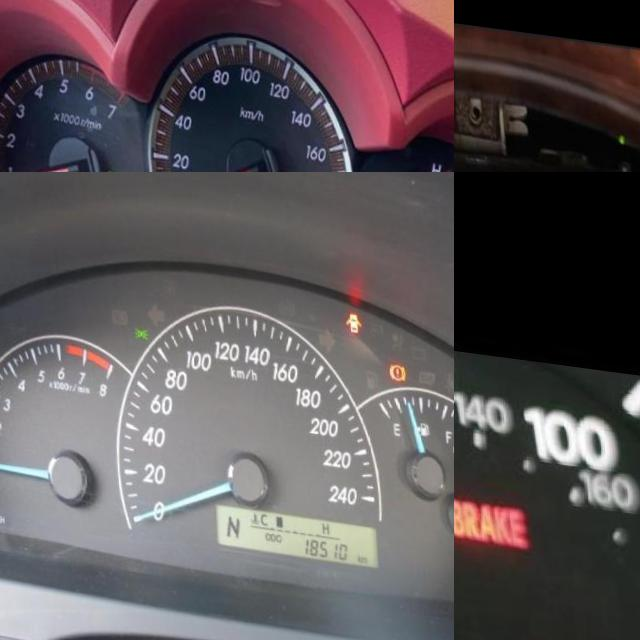Seat Belt: (342, 300, 360, 324)
